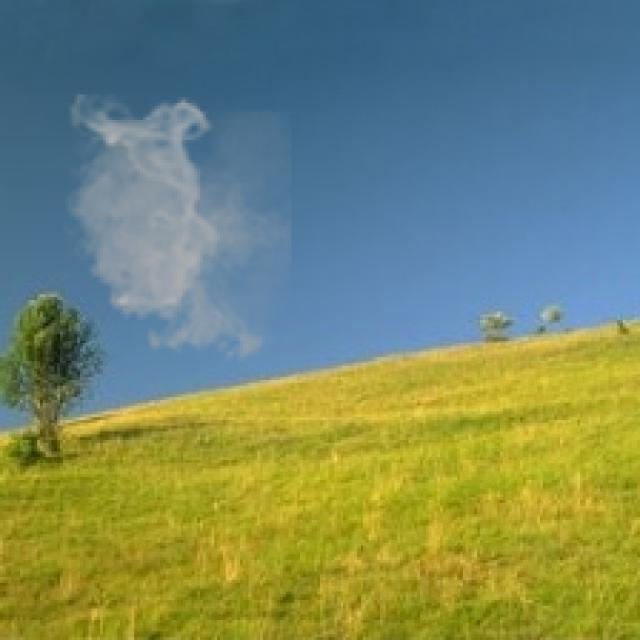smoke: (57, 94, 292, 369)
